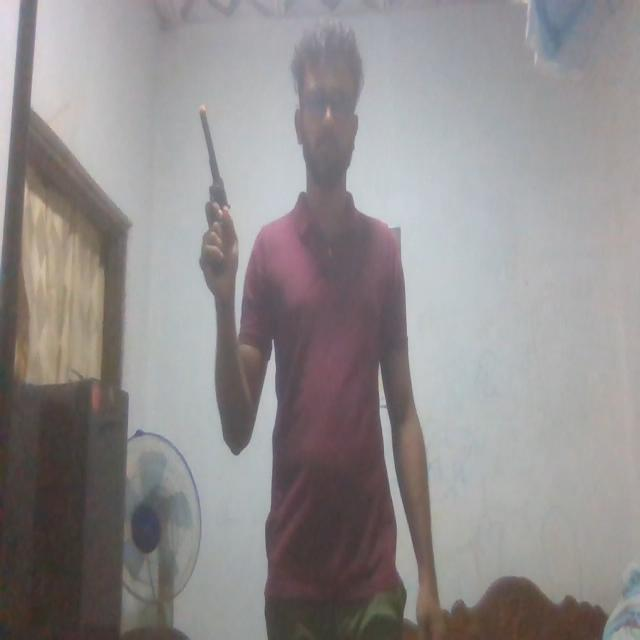Gun_Holder: (192, 96, 240, 260)
Person: (205, 30, 437, 640)
